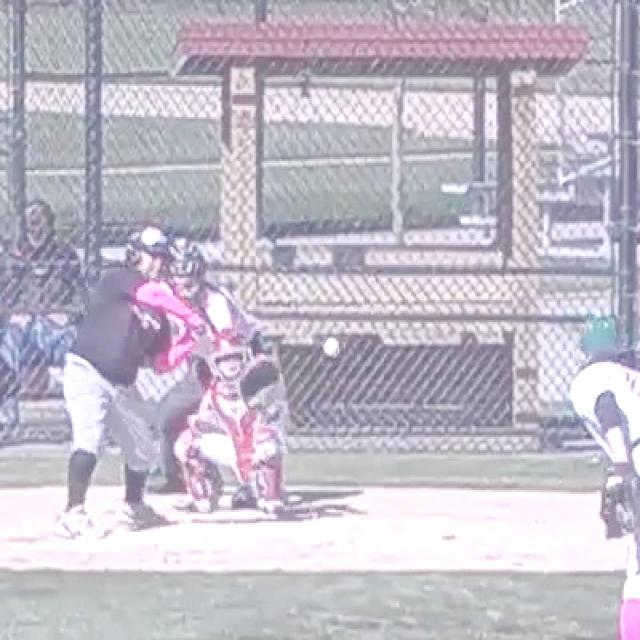baseball: (323, 338, 339, 356)
